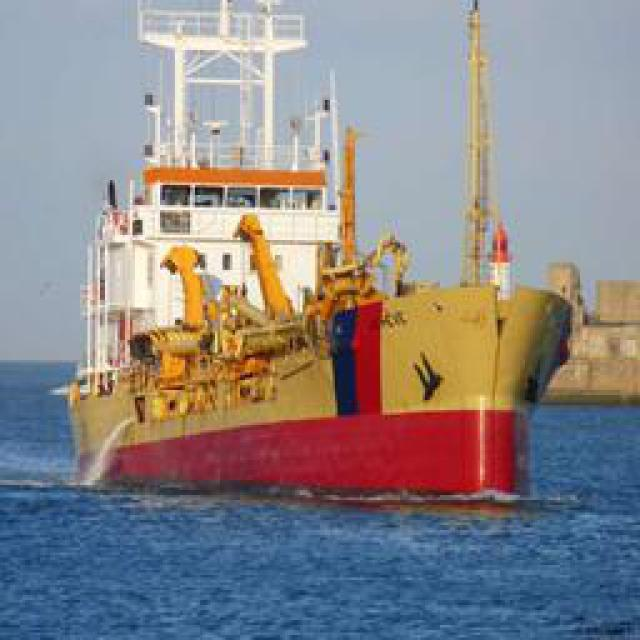Ship: (71, 1, 589, 491)
